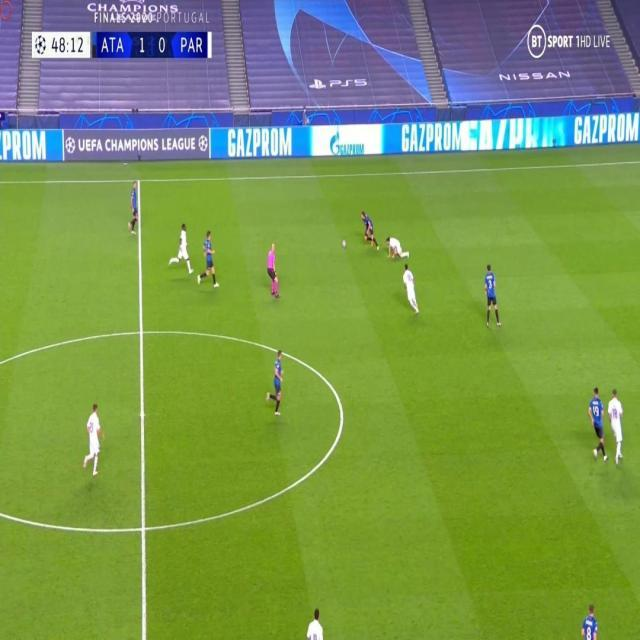ball: (342, 237, 348, 248)
player: (81, 399, 103, 476), (587, 382, 607, 462), (606, 383, 625, 463), (483, 260, 502, 329), (171, 221, 194, 277), (269, 345, 286, 420), (199, 228, 219, 290), (401, 260, 420, 315), (359, 211, 379, 249), (581, 599, 598, 640), (127, 180, 139, 236), (306, 605, 323, 640), (385, 232, 405, 261)
referee: (266, 239, 281, 298)
